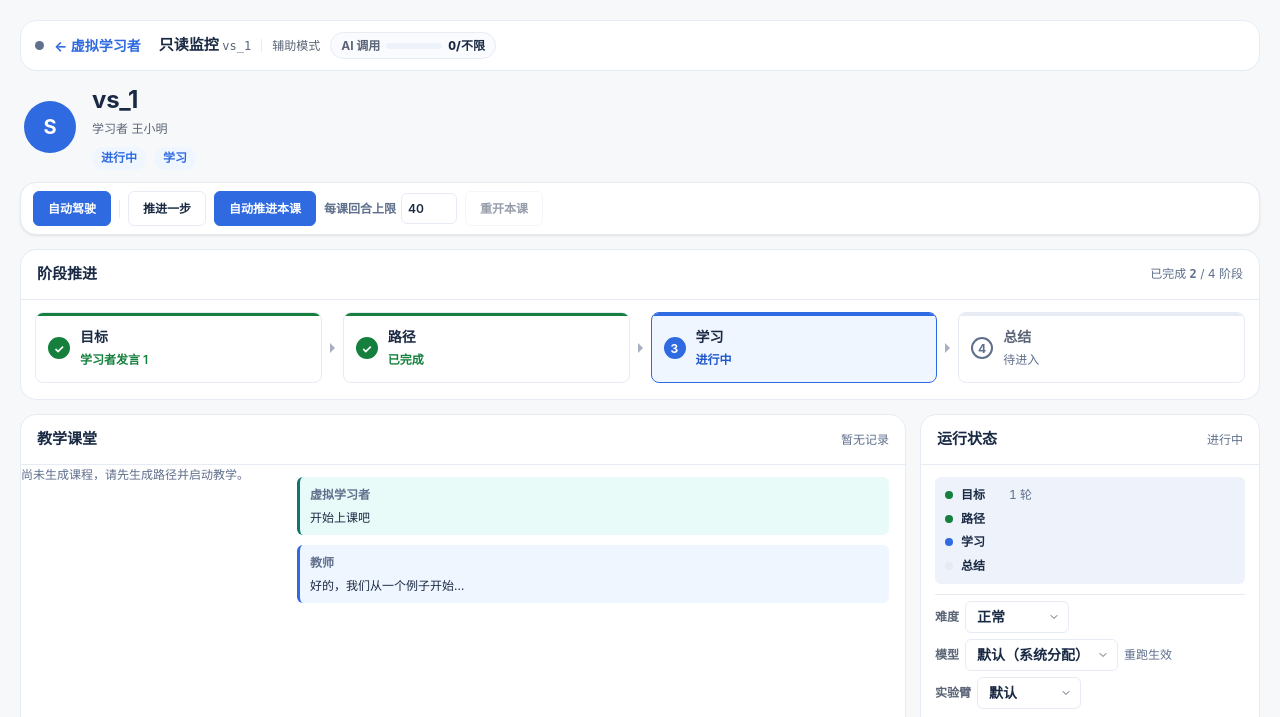
Test case: SessionCockpit 会话监控页（renderSessionDetail 骨架落点） › 阶段推进：stepper done/active/idle 三态 + 卡头 N/4 + statstrip 三读数；步点点击切换阶段页签
Expected: the 2nd text with class "cp-stp__meta" reads "进行中", [696,352,732,367]
Expected: the text with class "cp-stp__meta" reads "待进入", [1003,352,1039,367]
stepper 步点即阶段页签（原 cp-stage tab 导航收敛至此）：点击 Goal → Goal 对话卡出现
Click the tab with class "cp-stp" showing "✓ 目标 学习者发言 1" at (114, 360), box [35,312,322,383]
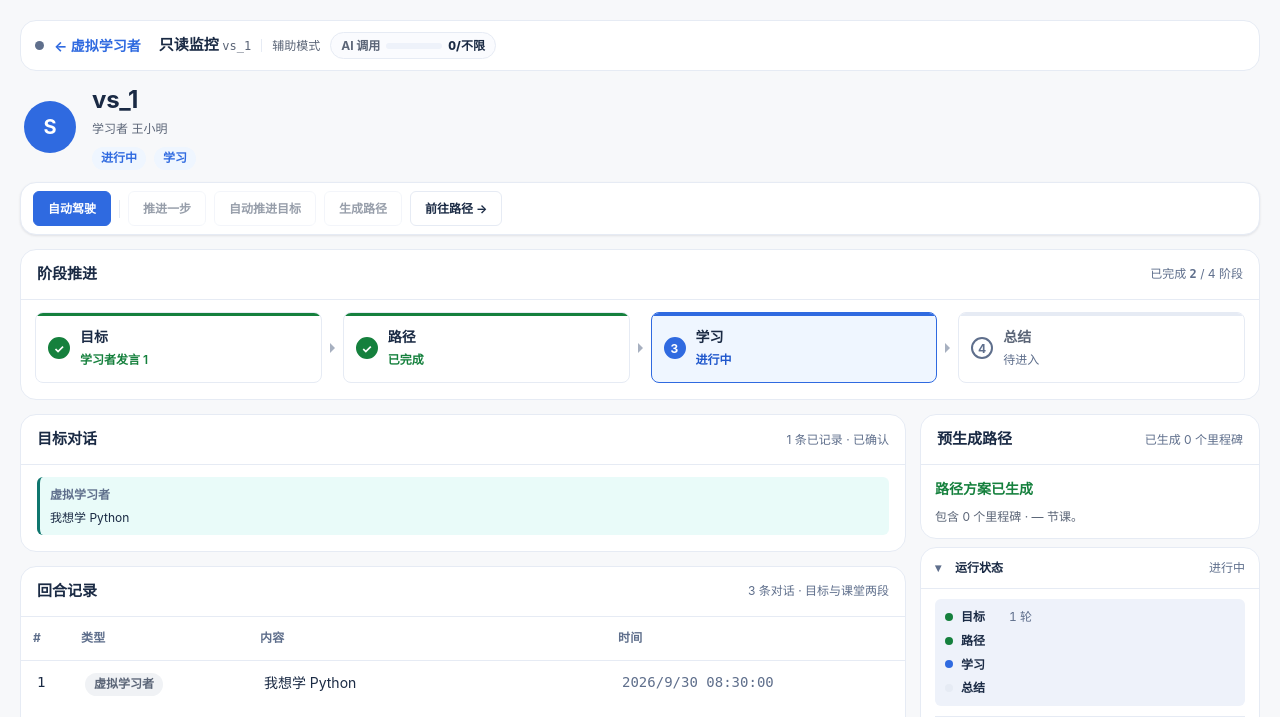
Result: the panel is shown at [20,414,906,552]
Result: the text "目标对话" is shown at [37,429,97,448]
